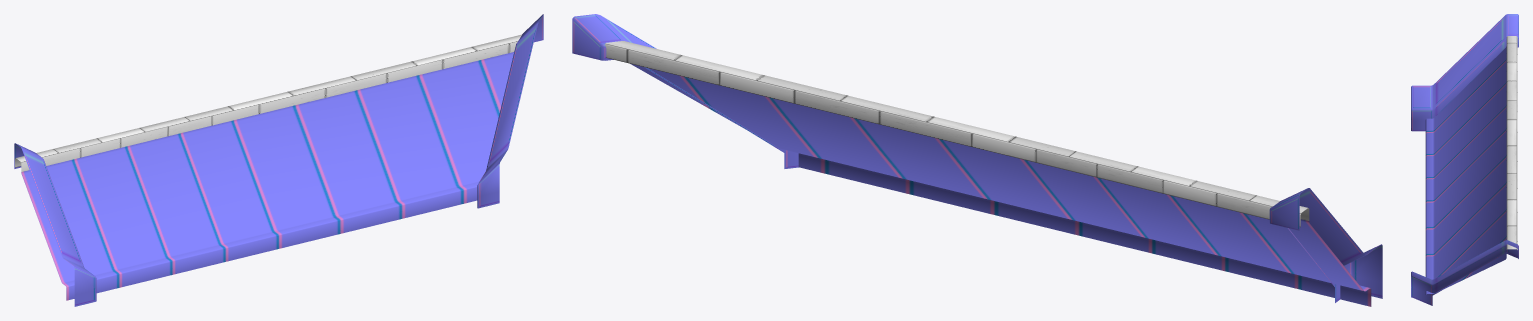
File: SM_Roof_03d.fbx
3 renders of one model, left to right at view 1: azimuth 30°, elevation 25°; view 2: azimuth 150°, elevation 25°; view 3: azimuth 270°, elevation 25°, orthographic. The views are drawn at different scales.
Parts seen in each view (by area): view 1: SM_Roof_Corner_03d; view 2: SM_Roof_Corner_03d; view 3: SM_Roof_Corner_03d.
Part boxes in pixels (<box>): SM_Roof_Corner_03d: <box>14,14,543,306</box>; SM_Roof_Corner_03d: <box>572,14,1382,306</box>; SM_Roof_Corner_03d: <box>1411,14,1518,305</box>.
Bounding box in the file's own units: 797 × 157 × 173.
